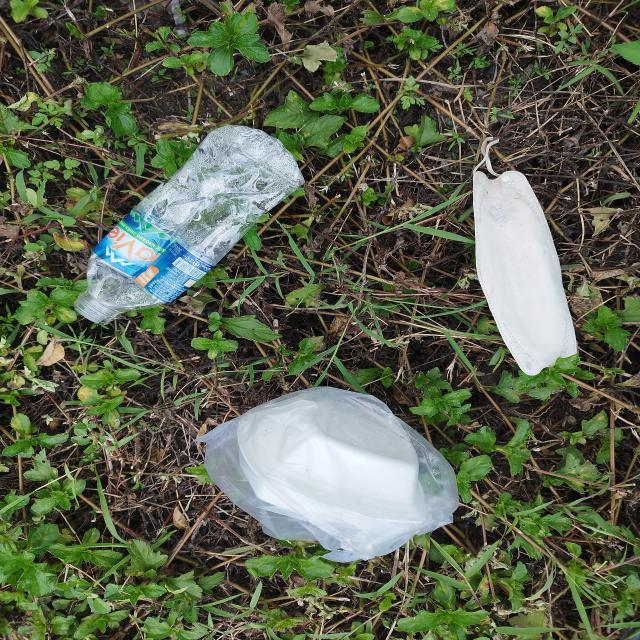bottle: (73, 126, 306, 326)
mask: (474, 138, 580, 376)
trash bag: (206, 386, 460, 561)
